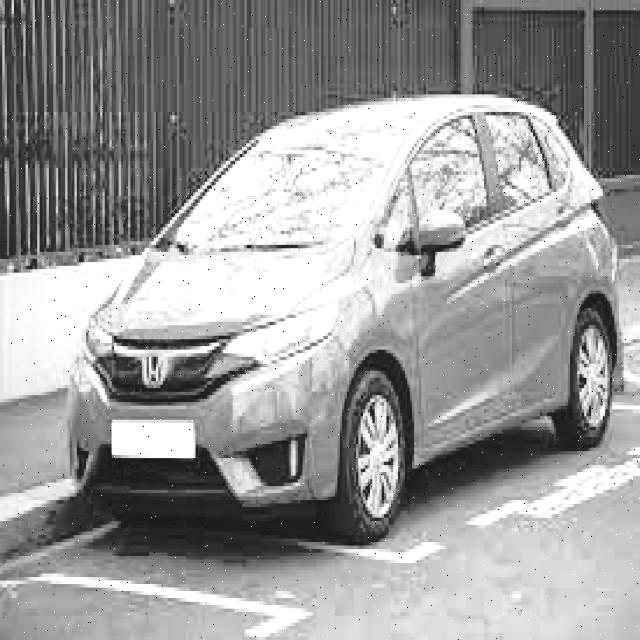Car: (77, 89, 625, 511)
